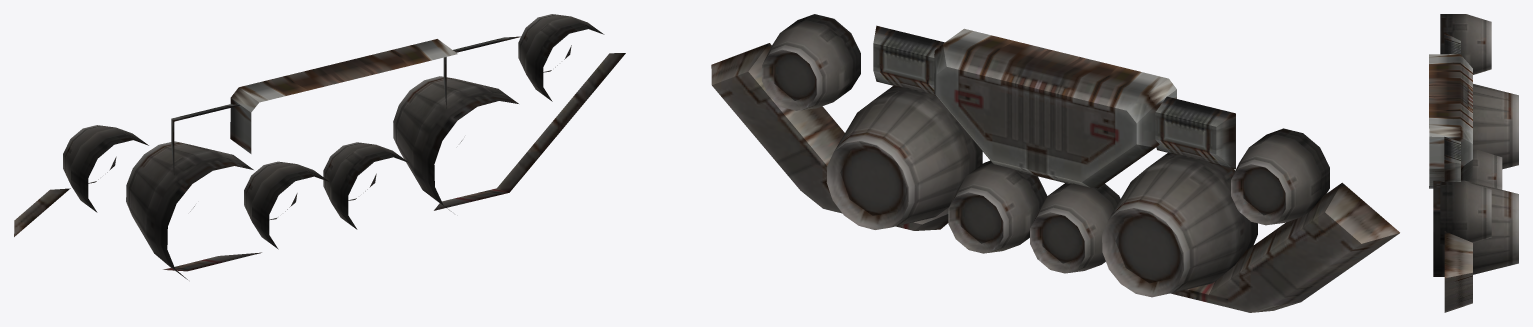
File: hgn_flagship_explorer_05_engine_s_01.glb
The picture shows the model from 3 angles, left to right: view 1: azimuth 30°, elevation 25°; view 2: azimuth 150°, elevation 25°; view 3: azimuth 270°, elevation 25°; orthographic projection. The views are drawn at different scales.
Visible parts, largest first — view 1: hgn_flagship_explorer_05_engine_s_01; view 2: hgn_flagship_explorer_05_engine_s_01; view 3: hgn_flagship_explorer_05_engine_s_01.
Part boxes in pixels (bbox=[...]): hgn_flagship_explorer_05_engine_s_01: bbox=[14, 14, 625, 279]; hgn_flagship_explorer_05_engine_s_01: bbox=[711, 14, 1399, 312]; hgn_flagship_explorer_05_engine_s_01: bbox=[1429, 14, 1518, 312].
Bounding box in the file's own units: 3.17 × 0.8649 × 0.4875.
Materials: 1 (1 with a texture image).
